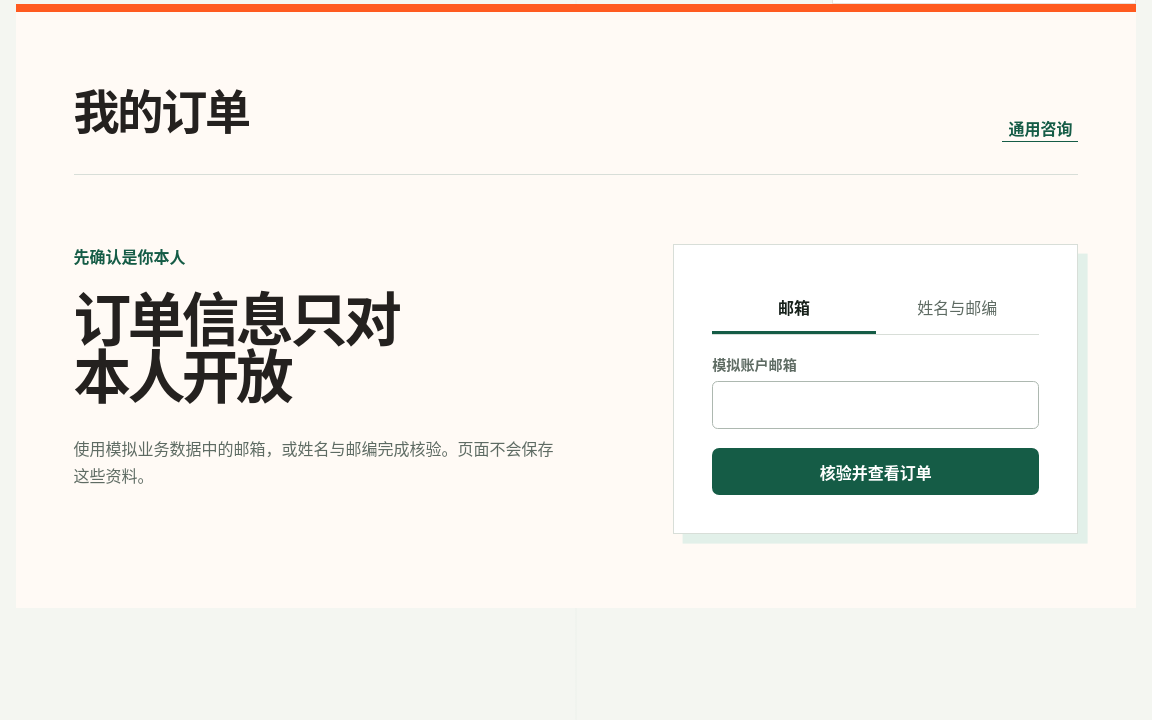
Test case: SupportPage conversation and confirmation › shows rejection and execution failure without claiming success
(page scrolled)
Expected: the heading "订单信息只对本人开放" is shown, [74,288,413,403]
Type "customer@example.invalid" into the field labelled "模拟账户邮箱" at (876, 405), box [712,381,1039,429]
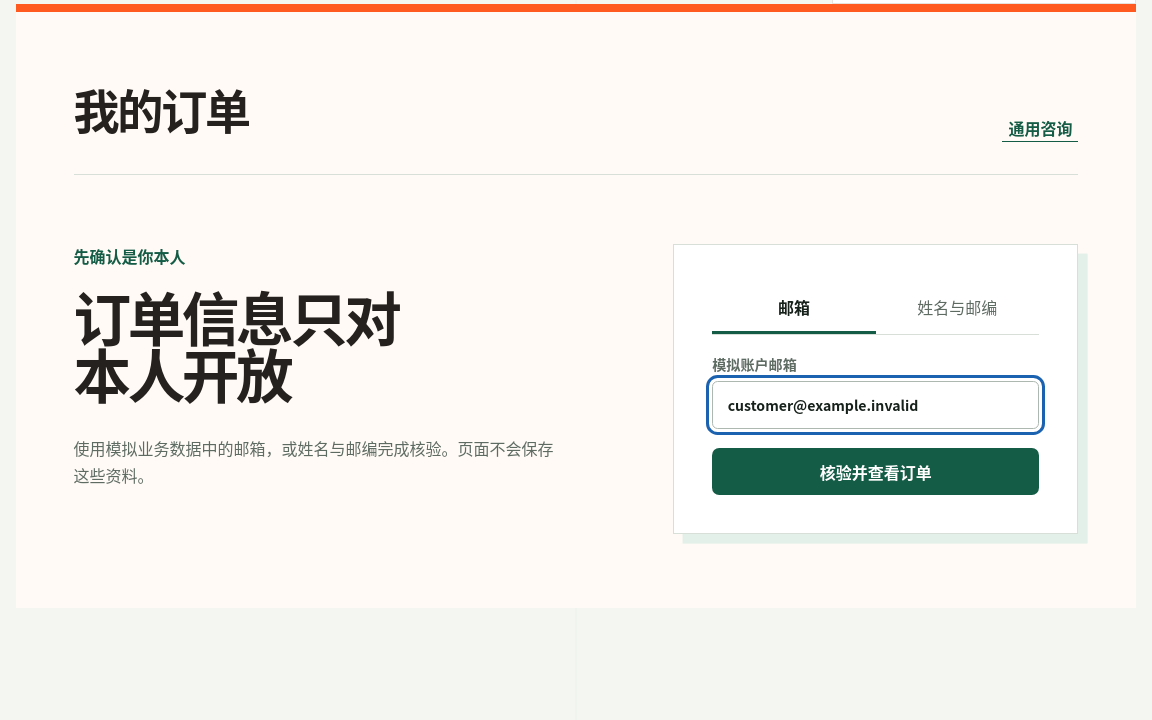
Click the button "核验并查看订单" at (876, 472), box [712,448,1039,495]
(page scrolled)
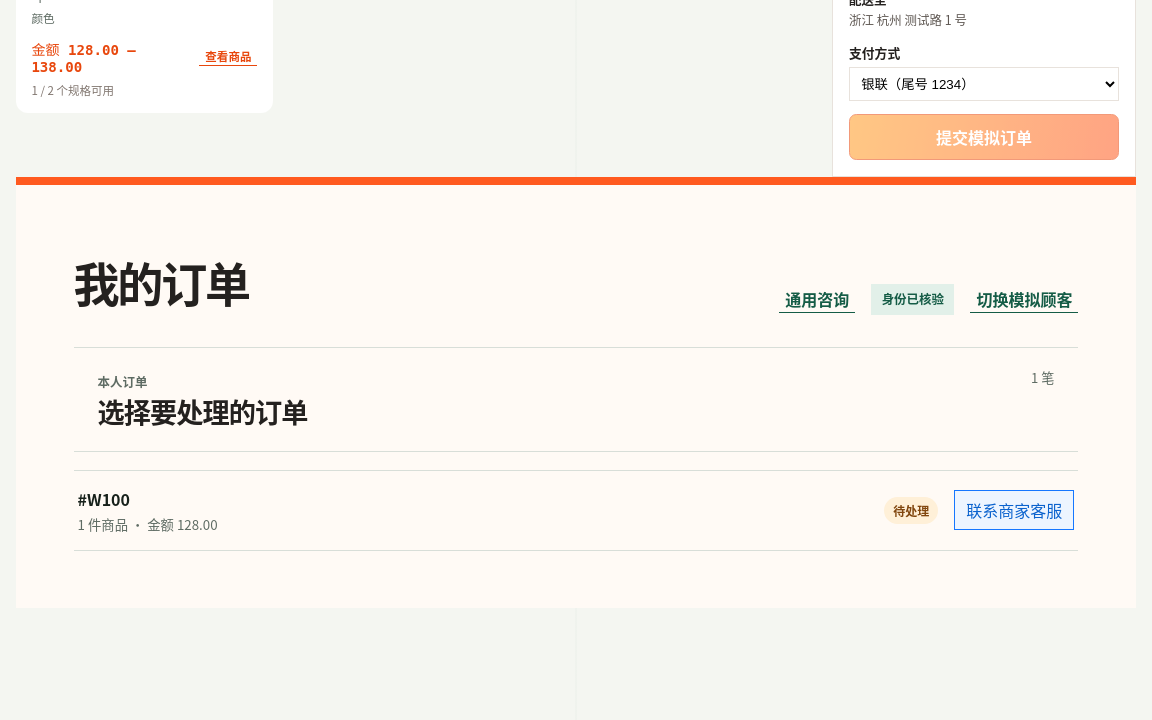
Result: the text "#W100" is shown at [78,487,130,511]
Click the button "联系商家客服" at (1014, 510), box [954,490,1074,530]
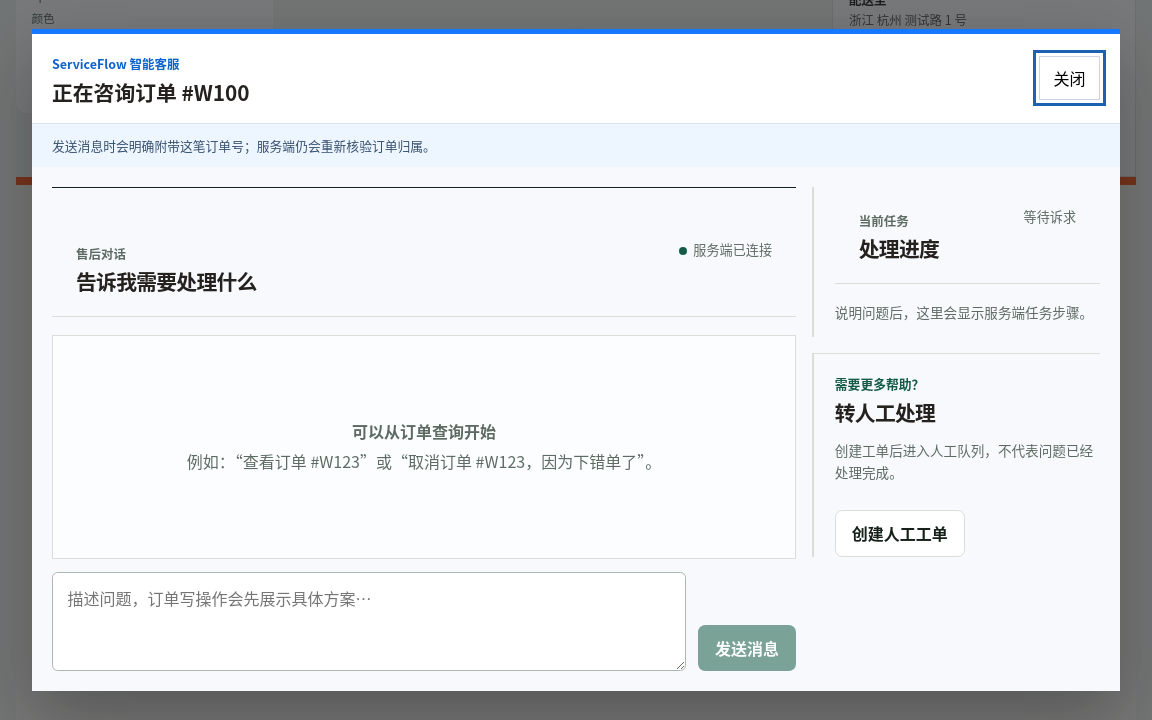
Result: the dialog "正在咨询订单 #W100" is shown
Type "cancel order #W100" into the text box named "输入售后问题" at (369, 622), box [52,572,686,672]
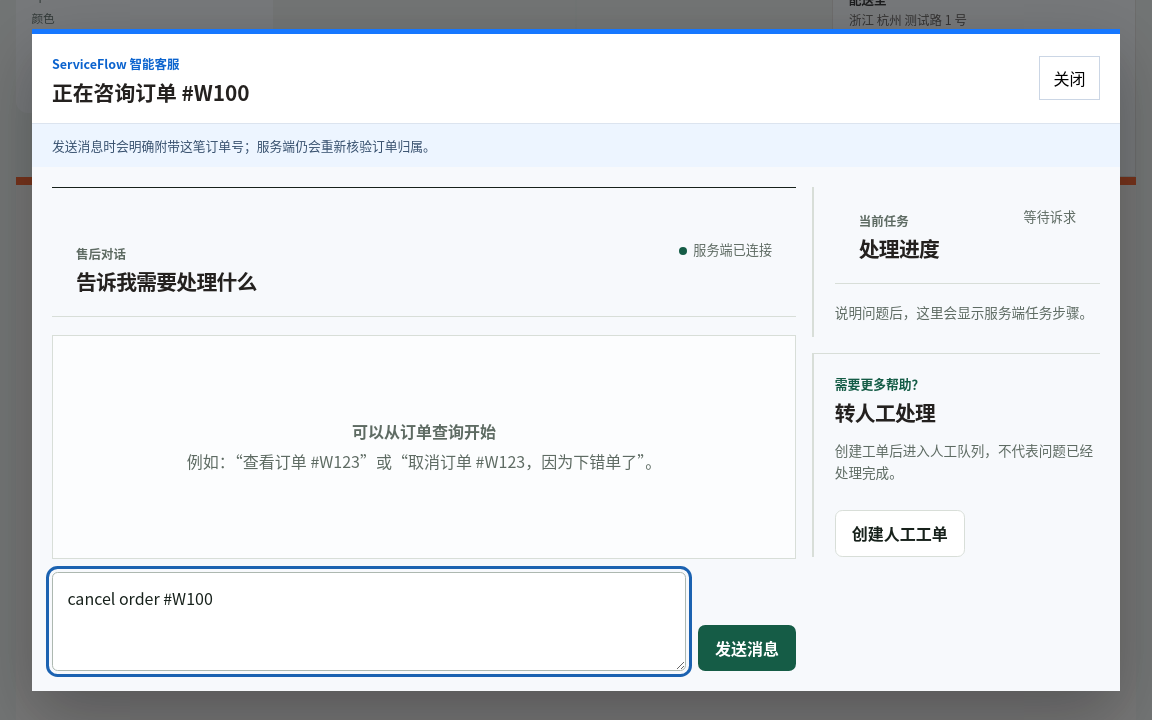
Click the button "发送消息" at (747, 648), box [698,625,796,672]
(page scrolled)
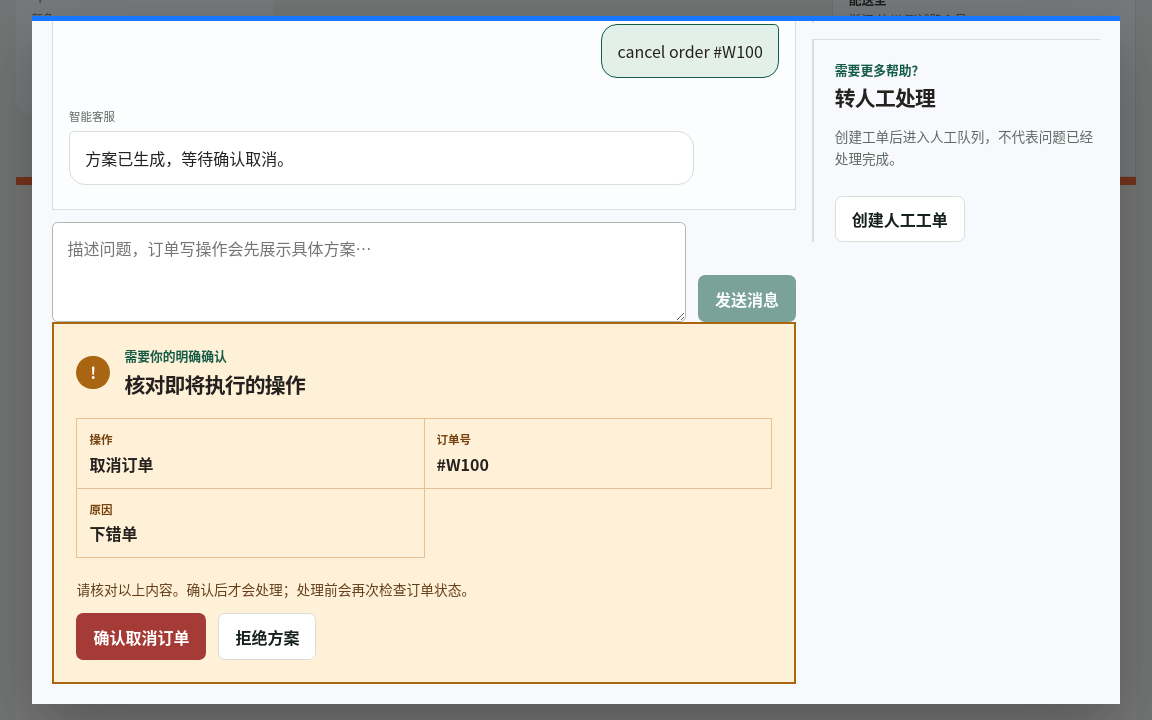
Click the button "拒绝方案" at (267, 637), box [218,613,316,660]
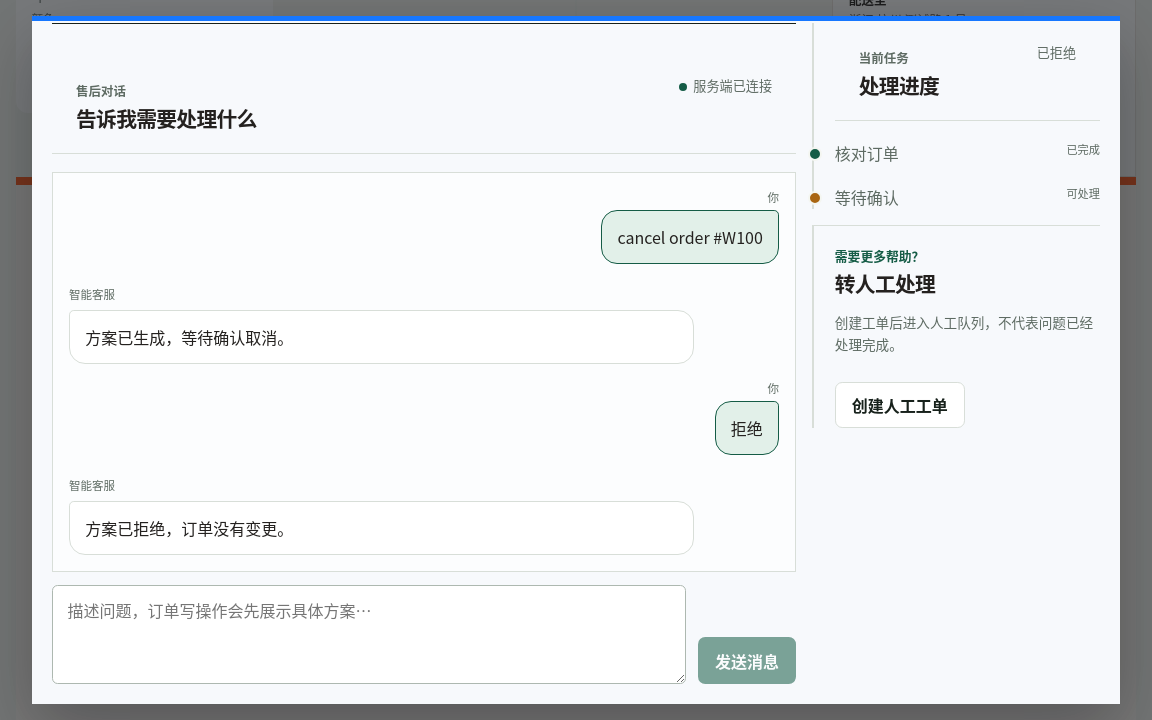
Result: the text "方案已拒绝，订单没有变更。" is shown at [69,501,694,555]
